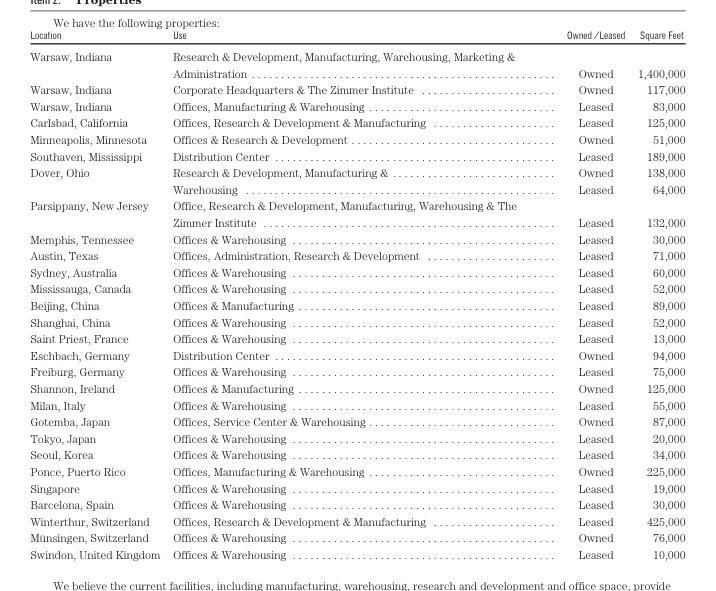table: (29, 28, 684, 560)
table column: (165, 28, 541, 560), (29, 28, 165, 560), (541, 28, 630, 560), (630, 28, 684, 560)
table column header: (29, 28, 684, 45)
table row: (29, 45, 684, 80), (29, 197, 684, 230), (29, 28, 684, 45), (29, 80, 684, 97), (29, 97, 684, 114), (29, 130, 684, 147), (29, 163, 684, 180), (29, 180, 684, 197), (29, 246, 684, 263), (29, 263, 684, 280), (29, 296, 684, 313), (29, 329, 684, 346), (29, 346, 684, 363), (29, 379, 684, 396), (29, 412, 684, 429), (29, 429, 684, 446), (29, 462, 684, 479), (29, 495, 684, 512), (29, 512, 684, 529), (29, 114, 684, 130), (29, 147, 684, 163), (29, 230, 684, 246), (29, 280, 684, 296), (29, 313, 684, 329), (29, 363, 684, 379), (29, 396, 684, 412), (29, 446, 684, 462), (29, 479, 684, 495), (29, 529, 684, 545), (29, 545, 684, 560)
table spanning cell: (29, 163, 165, 197)
